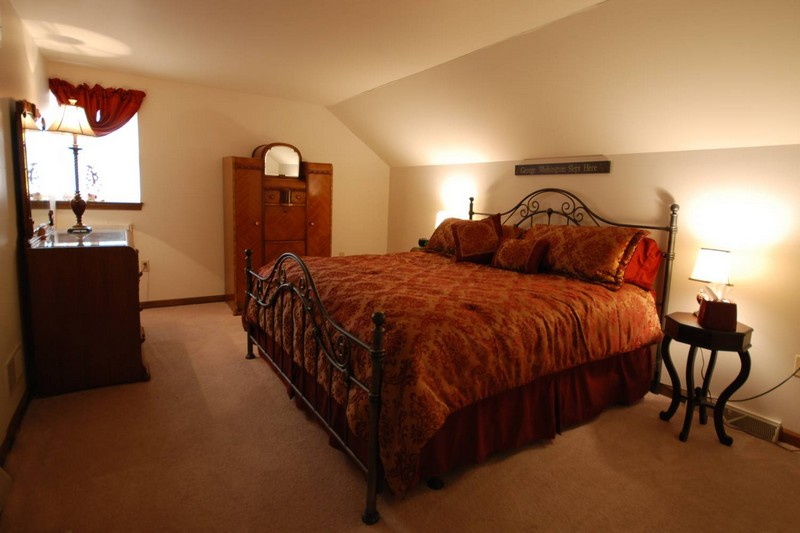bed: (241, 187, 674, 525)
lamp: (49, 88, 100, 239), (686, 239, 737, 330), (431, 174, 480, 244)
stool: (660, 306, 757, 449)
